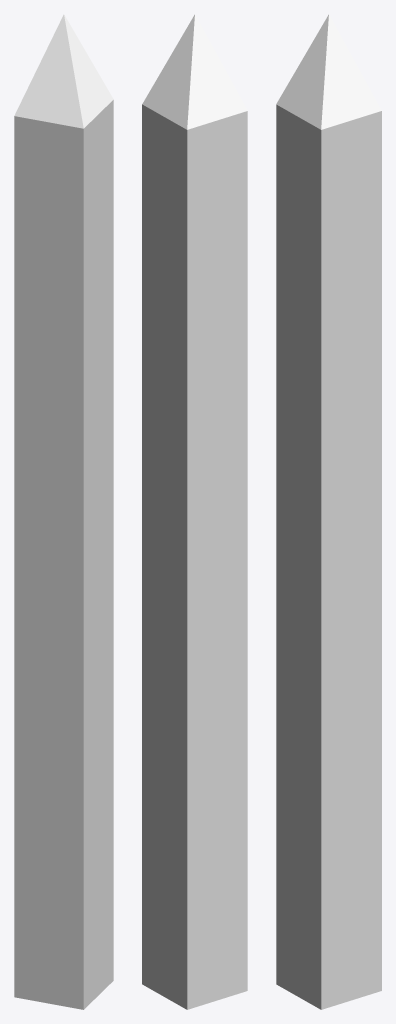
The model's file is obelisk.glb.
3 renders of one model, left to right at view 1: azimuth 90°, elevation 25°; view 2: azimuth 150°, elevation 25°; view 3: azimuth 330°, elevation 25°, orthographic.
Visible parts, largest first — view 1: mesh_id28, mesh_id30; view 2: mesh_id28, mesh_id30; view 3: mesh_id28, mesh_id30.
Part boxes in pixels (box(x1,y1,x2,y2)): mesh_id28: box(14, 100, 113, 1009); mesh_id30: box(14, 14, 113, 128); mesh_id28: box(142, 104, 247, 1009); mesh_id30: box(142, 14, 247, 129); mesh_id28: box(276, 104, 381, 1009); mesh_id30: box(276, 14, 381, 129).
Bounding box in the file's own units: 0.0782 × 0.8457 × 0.0782.
2 materials, 2 textured.
